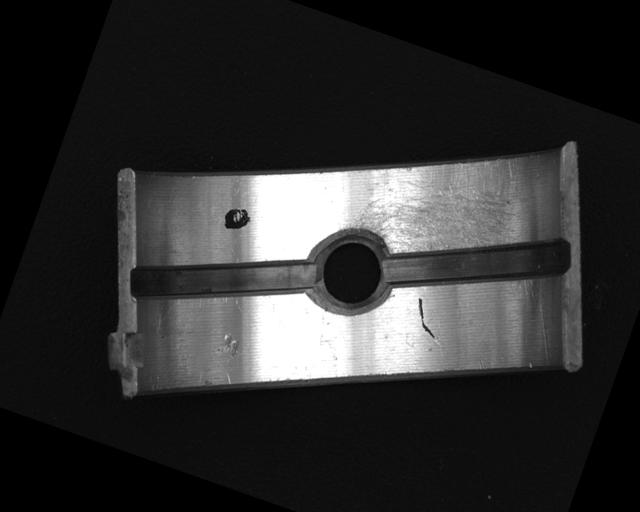blot: (220, 202, 254, 235)
bruise: (212, 329, 246, 363)
gap: (375, 185, 576, 339), (126, 207, 318, 348)
hole: (300, 219, 403, 323)
nick: (407, 294, 448, 340)
scratch: (343, 115, 538, 293)
